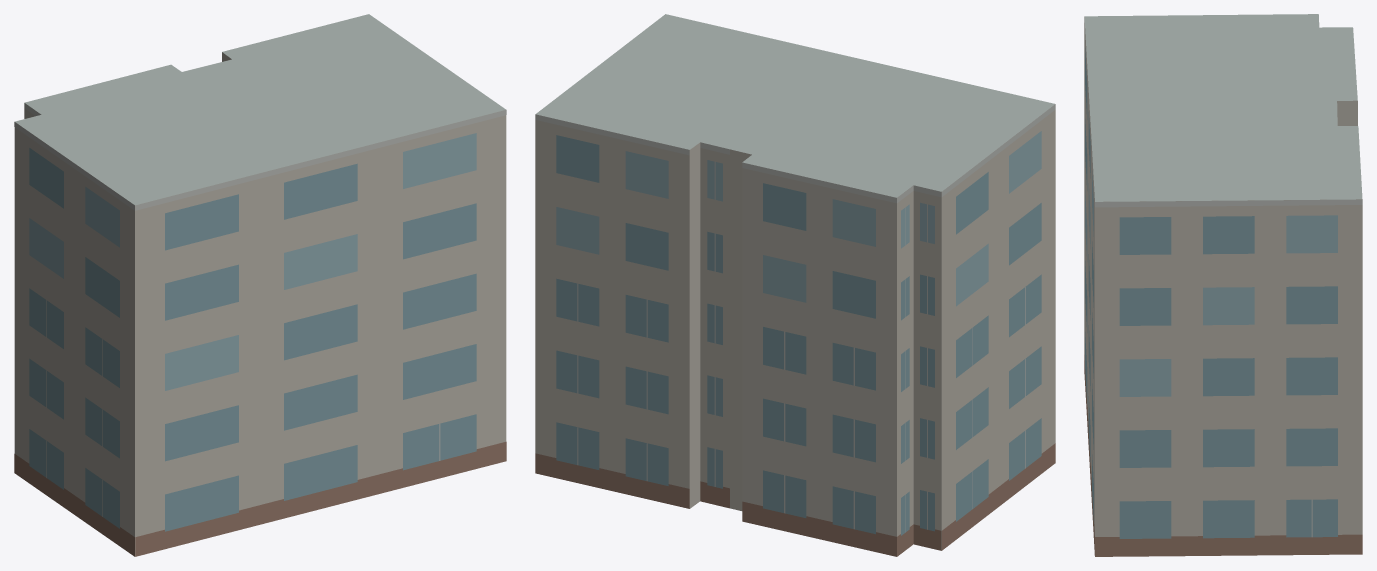
File: survey-upis-32610094.glb
The picture shows the model from 3 angles, left to right: view 1: azimuth 30°, elevation 25°; view 2: azimuth 150°, elevation 25°; view 3: azimuth 270°, elevation 25°; orthographic projection. The views are drawn at different scales.
Parts seen in each view (by area): view 1: survey-upis-32610094.tmp; view 2: survey-upis-32610094.tmp; view 3: survey-upis-32610094.tmp.
Part boxes in pixels (x1,y1,x2,y2): survey-upis-32610094.tmp: (14,14,506,556); survey-upis-32610094.tmp: (535,14,1055,556); survey-upis-32610094.tmp: (1084,14,1362,556).
Size of the model in its own units: 17.88 by 15.75 by 11.19.
